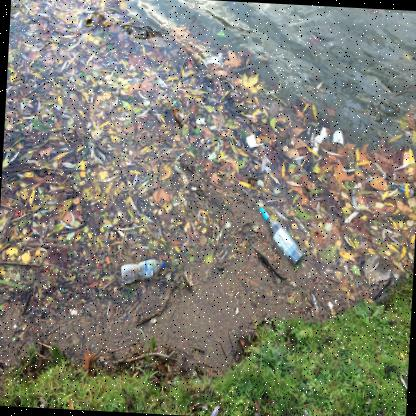Clear plastic bottle: (120, 259, 164, 283)
Glass bottle: (258, 207, 304, 267)
Other plastic: (392, 147, 415, 171), (388, 182, 405, 191)
Unlabeled litter: (332, 130, 344, 146)
